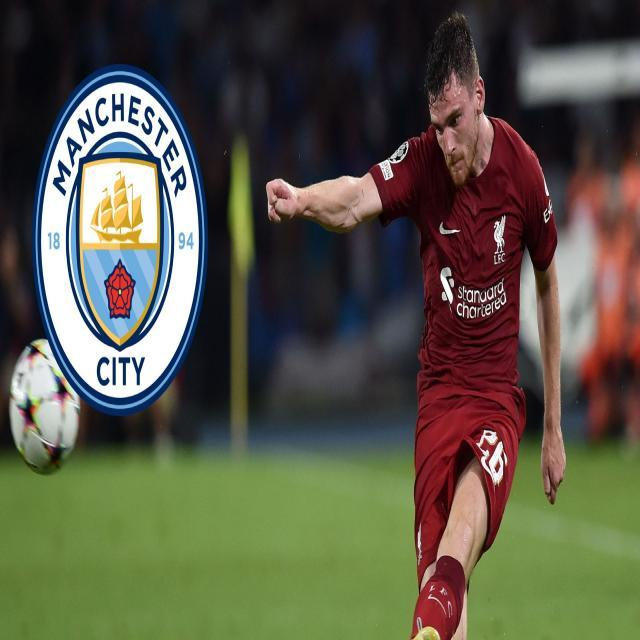Nike: (439, 221, 461, 236)
Standard Chartered: (440, 267, 507, 318)
